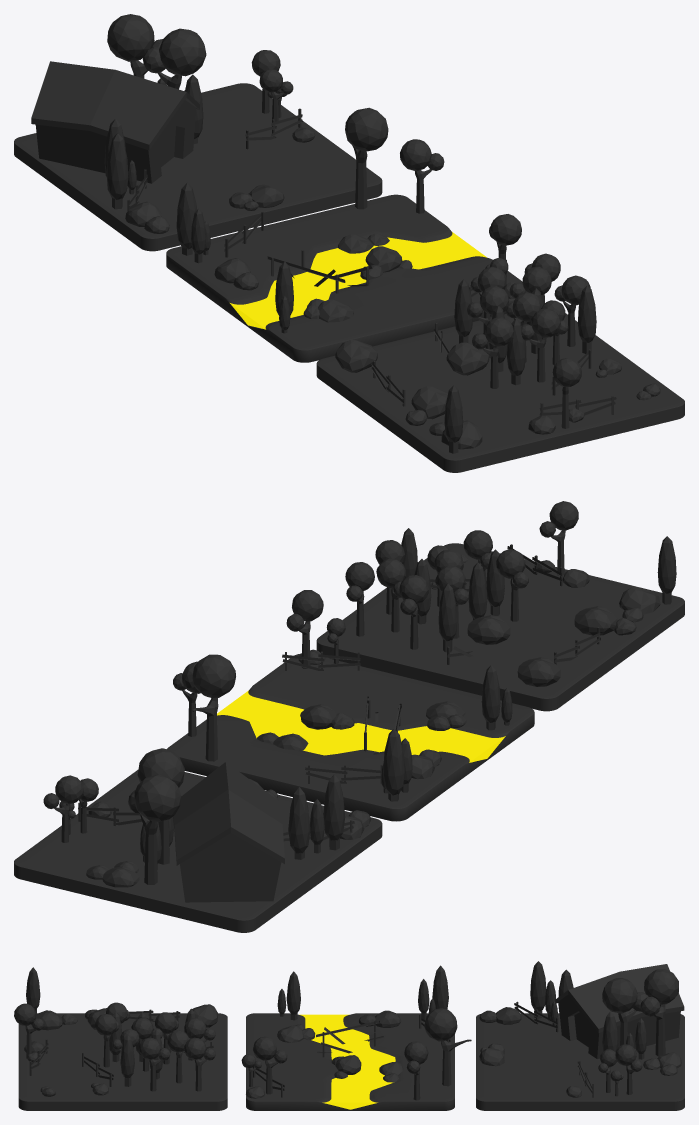
3 renders of one model, top to bottom at view 1: azimuth 30°, elevation 25°; view 2: azimuth 150°, elevation 25°; view 3: azimuth 270°, elevation 25°, orthographic. The views are drawn at different scales.
Visible parts, largest first — view 1: Cube, Cube.005, Cube.001, Cube.050, Plane, Icosphere_Icosphere.016, Icosphere_Icosphere.015, Icosphere_Icosphere.013, Icosphere.009, Icosphere.003, Sphere.012, Sphere.013 (+12 smaller); view 2: Cube, Cube.001, Cube.005, Cube.050, Plane, Icosphere_Icosphere.015, Icosphere_Icosphere.013, Icosphere.009, Icosphere.003, Icosphere_Icosphere.016, Icosphere.008, Sphere.013 (+19 smaller); view 3: Cube.005, Cube, Cube.001, Cube.050, Plane, Icosphere_Icosphere.016, Icosphere_Icosphere.015, Icosphere_Icosphere.013, Icosphere.009, Icosphere.003, Icosphere.033, Icosphere.001 (+33 smaller).
Part boxes in pixels (x1,y1,x2,y2): Cube: (316,313,684,472); Cube.005: (14,83,382,251); Cube.001: (166,194,522,362); Cube.050: (31,61,199,183); Plane: (230,232,486,329); Icosphere_Icosphere.016: (159,28,206,76); Icosphere_Icosphere.015: (107,14,154,61); Icosphere_Icosphere.013: (345,107,388,151); Icosphere.009: (106,133,128,209); Icosphere.003: (176,182,196,255); Sphere.012: (335,340,377,372); Sphere.013: (446,342,489,375); Cube: (316,543,684,711); Cube.001: (167,653,534,821); Cube.005: (14,770,382,932); Cube.050: (173,762,284,902); Plane: (217,690,505,762); Icosphere_Icosphere.015: (134,774,181,822); Icosphere_Icosphere.013: (192,654,235,697); Icosphere.009: (323,774,345,850); Icosphere.003: (383,729,404,801); Icosphere_Icosphere.016: (137,748,184,787); Icosphere.008: (288,787,310,859); Sphere.013: (467,615,510,644); Cube.005: (476,1013,684,1110); Cube: (18,1013,227,1110); Cube.001: (246,1013,454,1110); Cube.050: (555,964,684,1058); Plane: (299,1014,395,1109); Icosphere_Icosphere.016: (602,978,637,1013); Icosphere_Icosphere.015: (644,969,678,1004); Icosphere_Icosphere.013: (424,1008,457,1041); Icosphere.009: (530,961,546,1018); Icosphere.003: (432,965,448,1009); Icosphere.033: (120,1035,134,1086); Icosphere.001: (286,971,300,1020).
Bounding box in the file's own units: 10.48 × 5.61 × 30.86.
